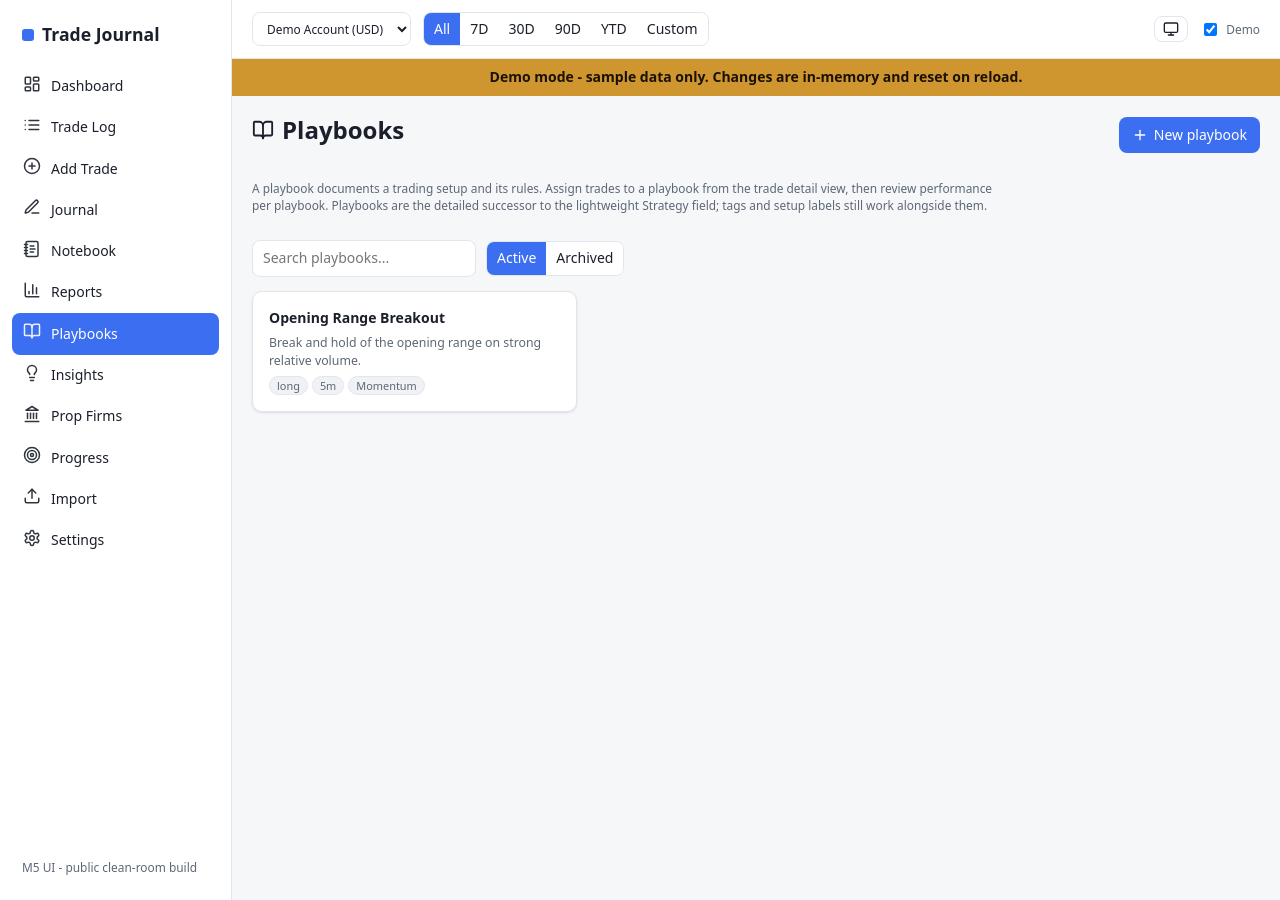
Demo-mode happy path › lists the seeded playbook and opens its detail (M6.2)
Check: the heading "Playbooks" is shown, box [252,116,404,144]
Click the text "Opening Range Breakout".
click(357, 318)  # box [269,308,445,328]
(page scrolled)
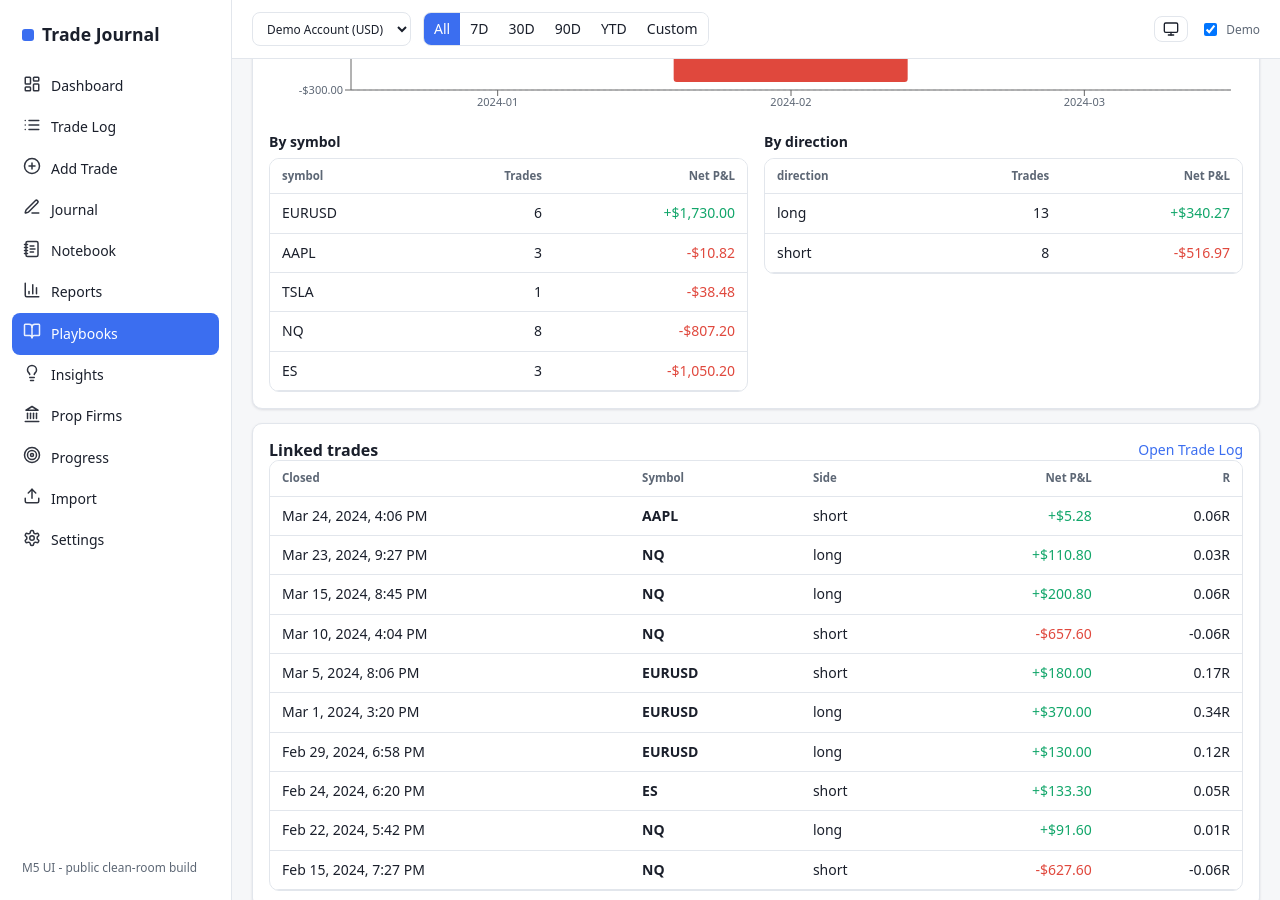
Check: the heading "Linked trades" is shown, box [269,440,378,460]
